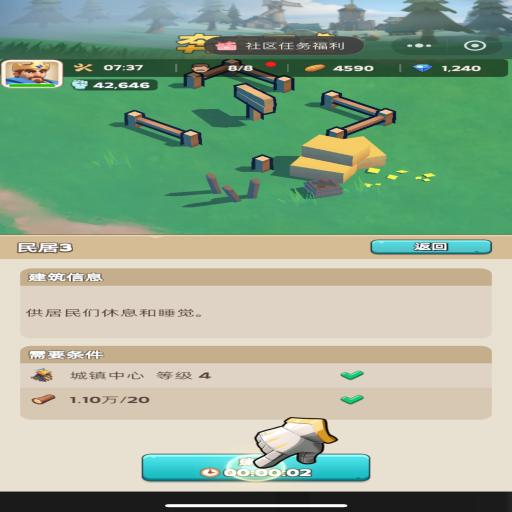newcomer_hand: (252, 416, 336, 466)
